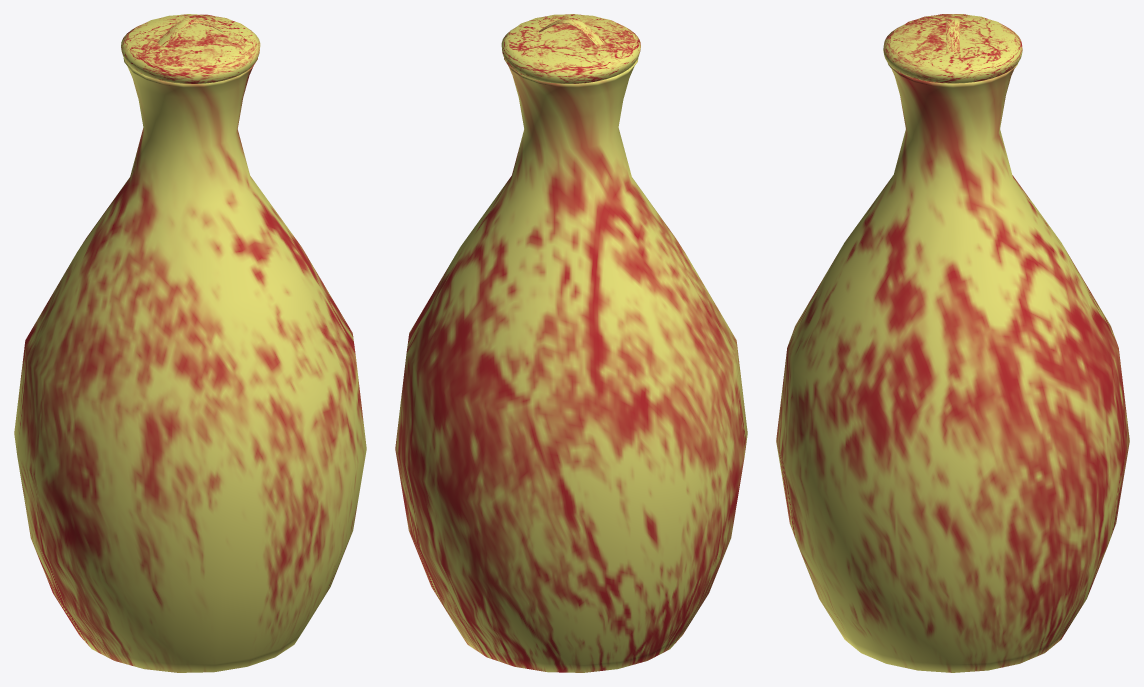
File: Pot 1.fbx
3 renders of one model, left to right at view 1: azimuth 30°, elevation 25°; view 2: azimuth 150°, elevation 25°; view 3: azimuth 270°, elevation 25°, orthographic.
Parts seen in each view (by area): view 1: fruitsOfLabour_geo1; view 2: fruitsOfLabour_geo1; view 3: fruitsOfLabour_geo1.
Boxes of the visible parts, <box> form: fruitsOfLabour_geo1: <box>14,14,366,672</box>; fruitsOfLabour_geo1: <box>395,14,747,672</box>; fruitsOfLabour_geo1: <box>776,14,1129,672</box>.
Size of the model in its own units: 0.6228 by 1.17 by 0.6221.
Materials: 1 (1 with a texture image).
